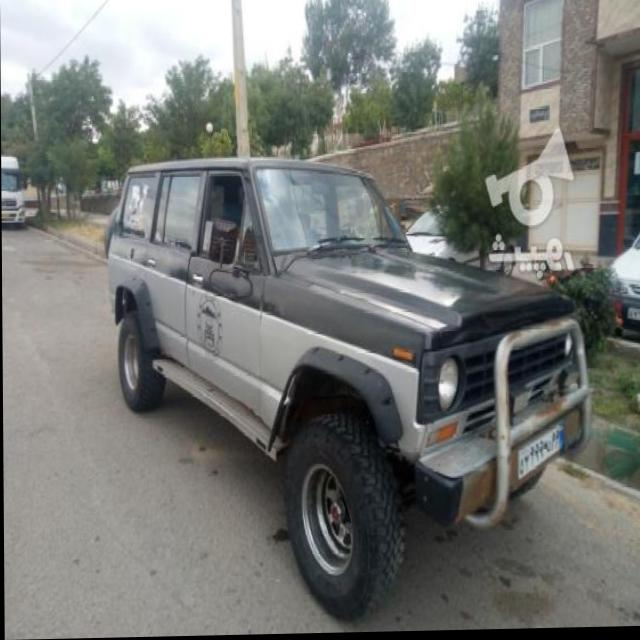licence: (514, 420, 566, 490)
